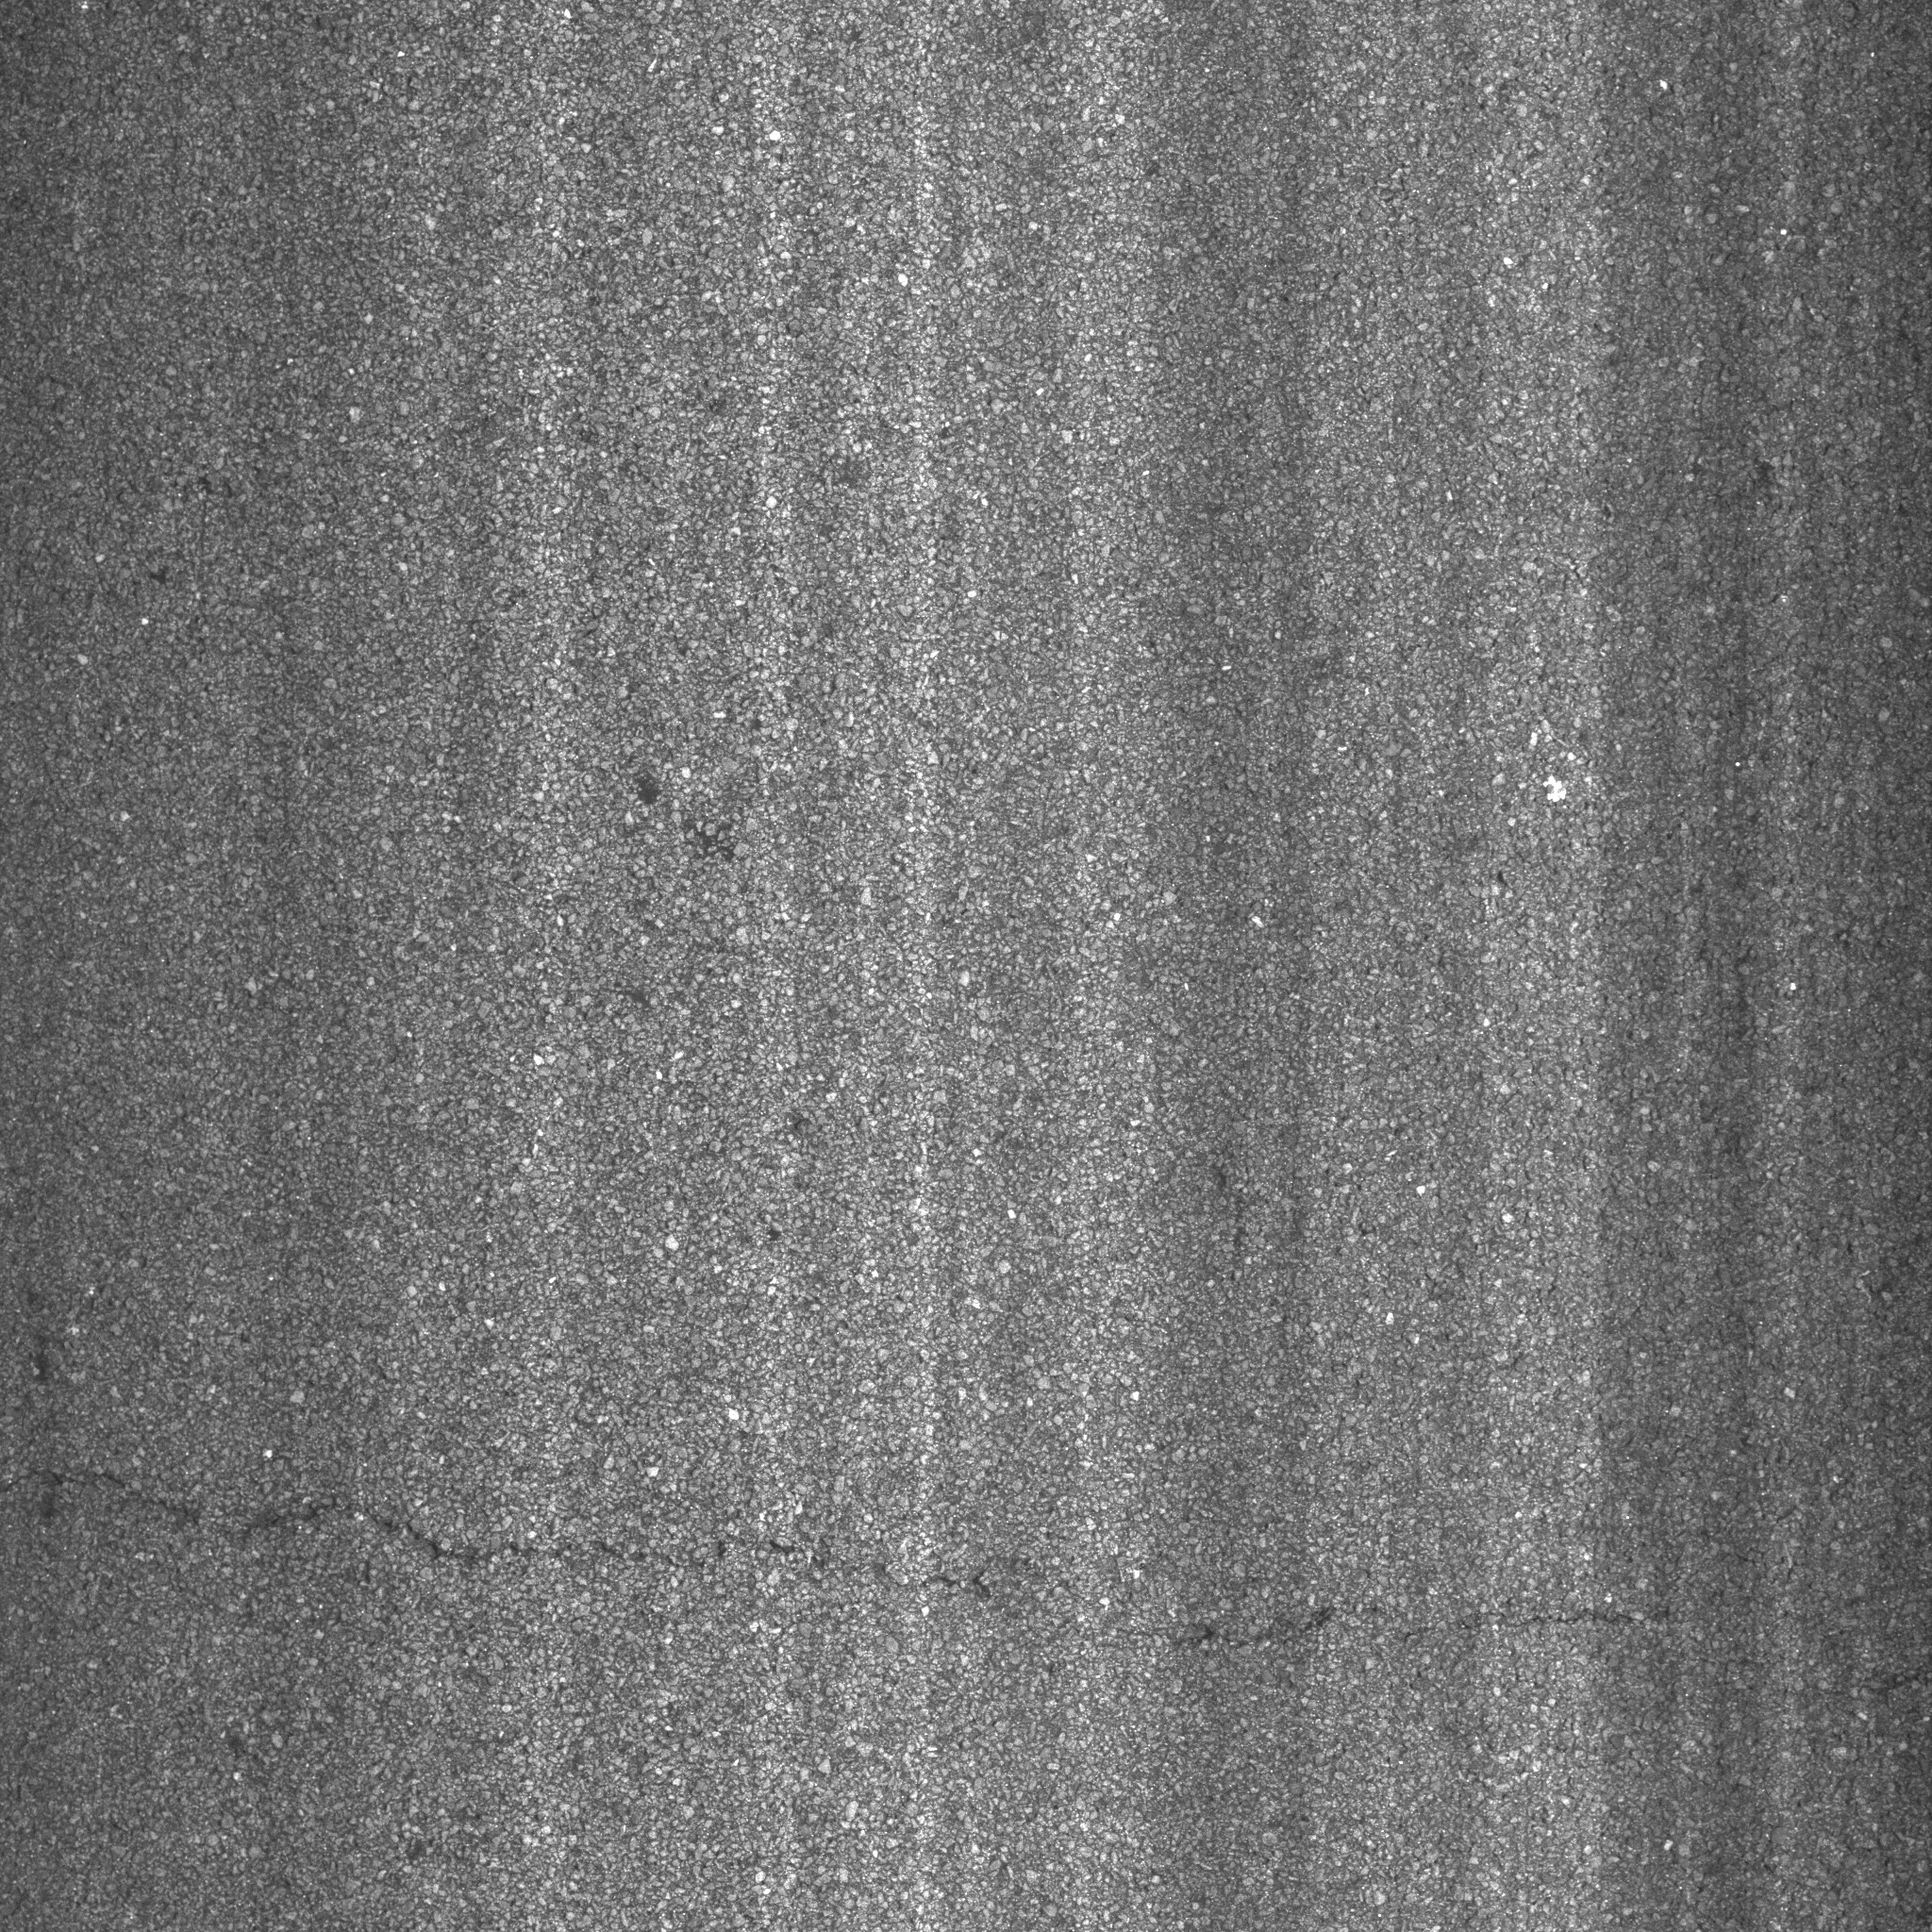transverse: (4, 1415, 1730, 1718)
